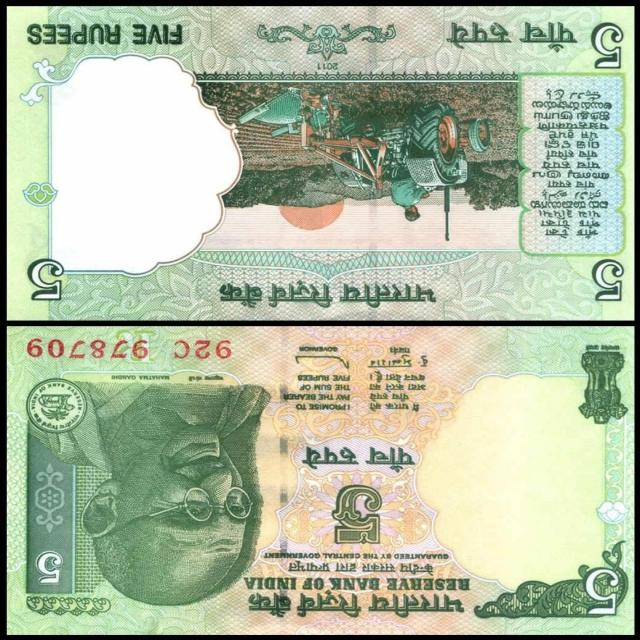5IndianRupees: (8, 8, 630, 322)
